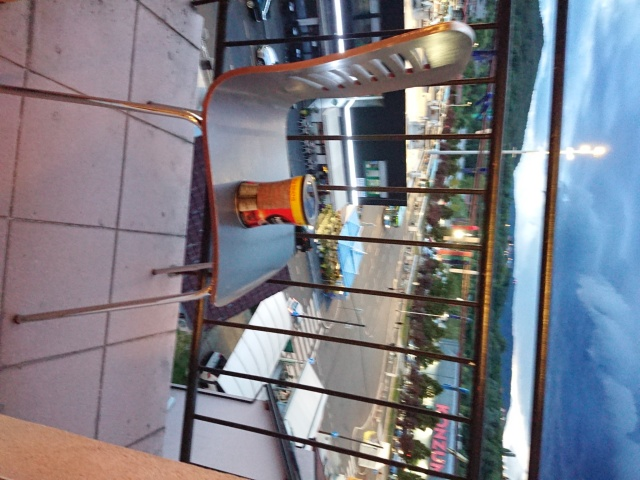Nescafe Classic 225g: (232, 172, 322, 231)
